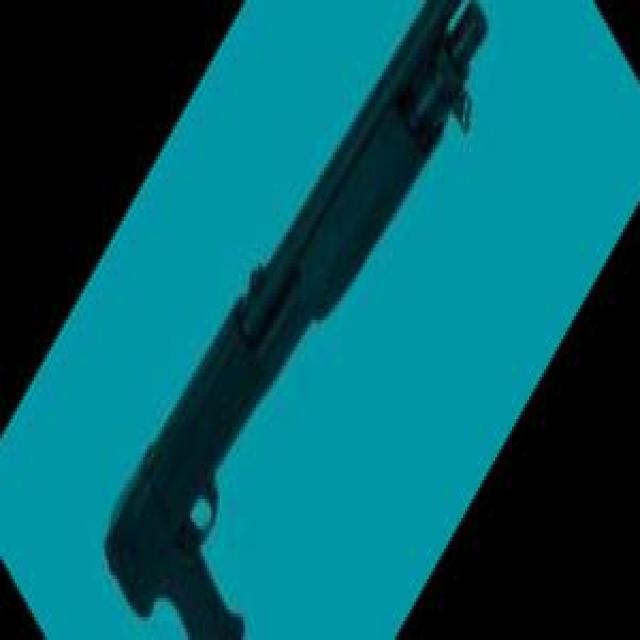weapon: (102, 1, 488, 640)
